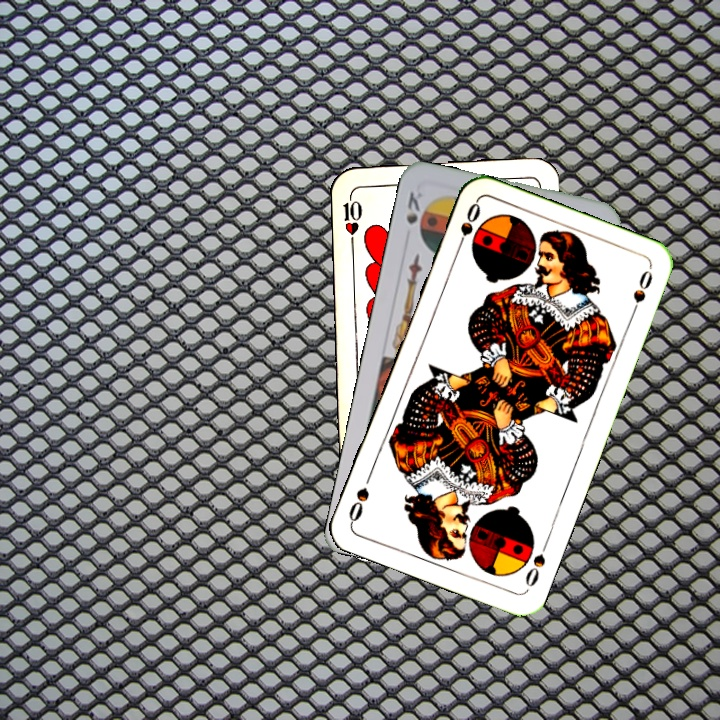H10: (339, 188, 365, 247)
SK: (402, 186, 426, 227)
SO: (452, 198, 483, 255), (521, 536, 551, 589)
